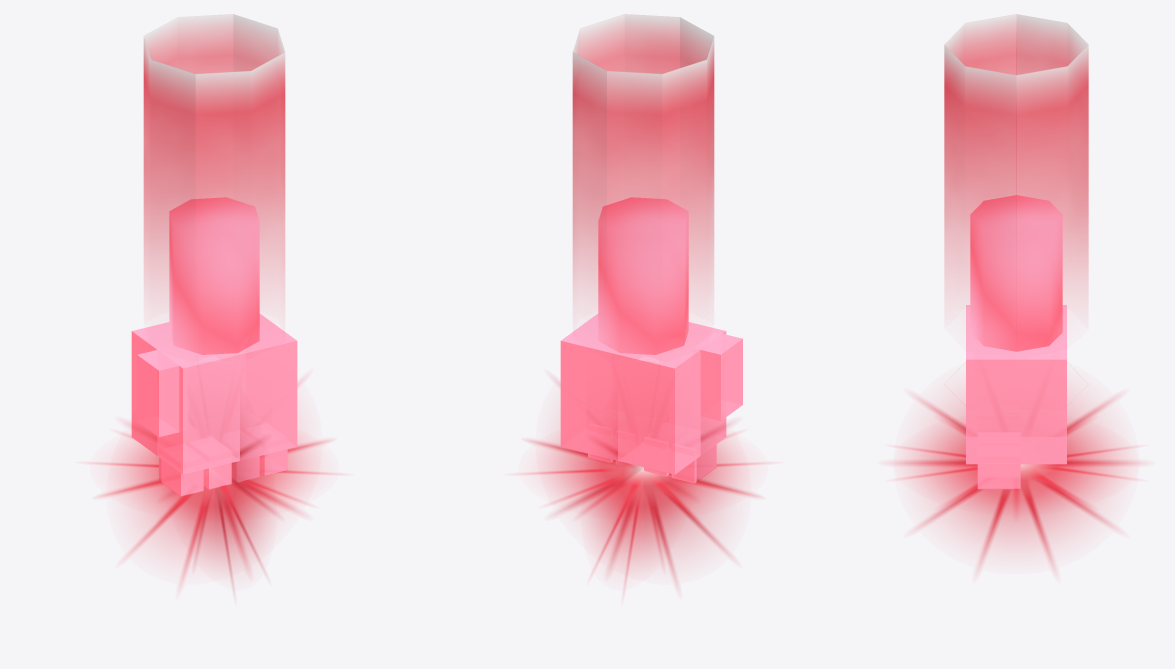
The model's file is fx_rain_fist.glb.
The picture shows the model from 3 angles, left to right: view 1: azimuth 30°, elevation 25°; view 2: azimuth 150°, elevation 25°; view 3: azimuth 270°, elevation 25°; orthographic projection.
Visible parts, largest first — view 1: fx_fist_trail, fx_ki, fx_fist_glow; view 2: fx_fist_trail, fx_ki, fx_fist_glow; view 3: fx_fist_trail, fx_ki, fx_fist_glow.
Boxes of the visible parts, x1,y1,x2,y2 form: fx_fist_trail: [143, 14, 285, 418]; fx_ki: [131, 197, 297, 496]; fx_fist_glow: [90, 380, 338, 590]; fx_fist_trail: [572, 14, 714, 418]; fx_ki: [560, 197, 742, 483]; fx_fist_glow: [519, 380, 767, 590]; fx_fist_trail: [944, 14, 1088, 413]; fx_ki: [966, 195, 1066, 489]; fx_fist_glow: [893, 392, 1139, 569].
Bounding box in the file's own units: 2 × 4.2 × 2.
3 materials, 2 textured.
